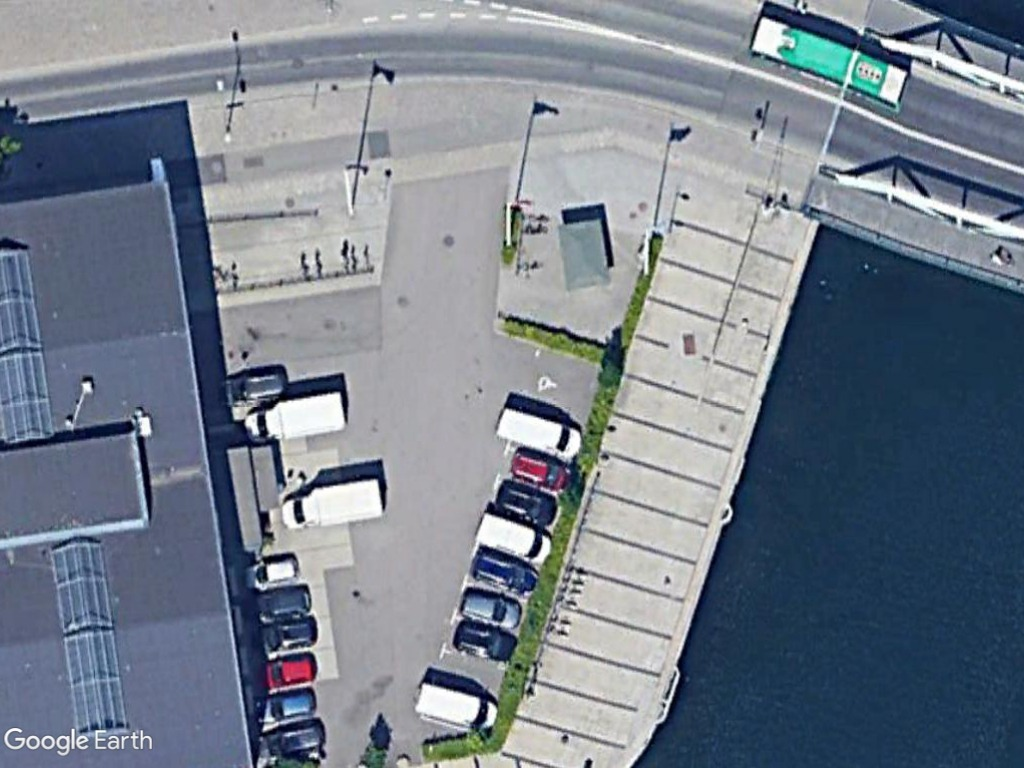bus: (742, 12, 913, 114)
car: (453, 581, 527, 636), (468, 547, 542, 600), (504, 445, 579, 494), (447, 618, 522, 666), (491, 480, 562, 530), (219, 365, 292, 411)
truck: (238, 382, 355, 448), (276, 471, 391, 535)
van: (489, 404, 588, 464), (405, 679, 504, 736), (466, 508, 555, 565)
